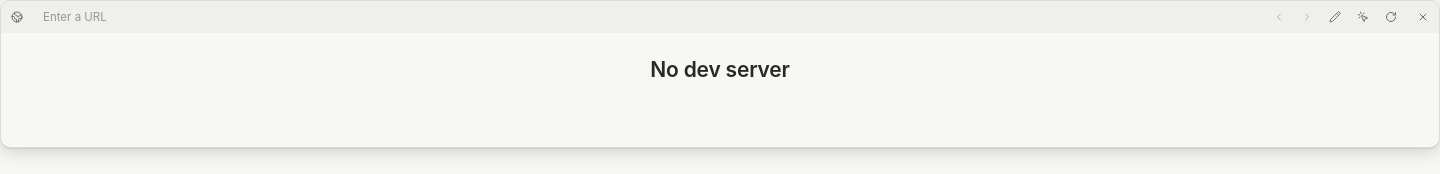
BrowserPanel dev servers › drops the servers group entirely when the project configures none
The image size is (1440, 174).
Click the button named "Servers & settings" at (17, 17), box [5, 5, 29, 29]
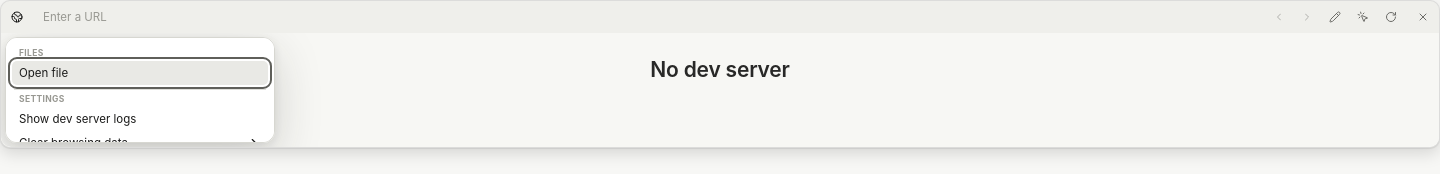
Result: the text "Settings" is shown at [19, 94, 65, 104]
